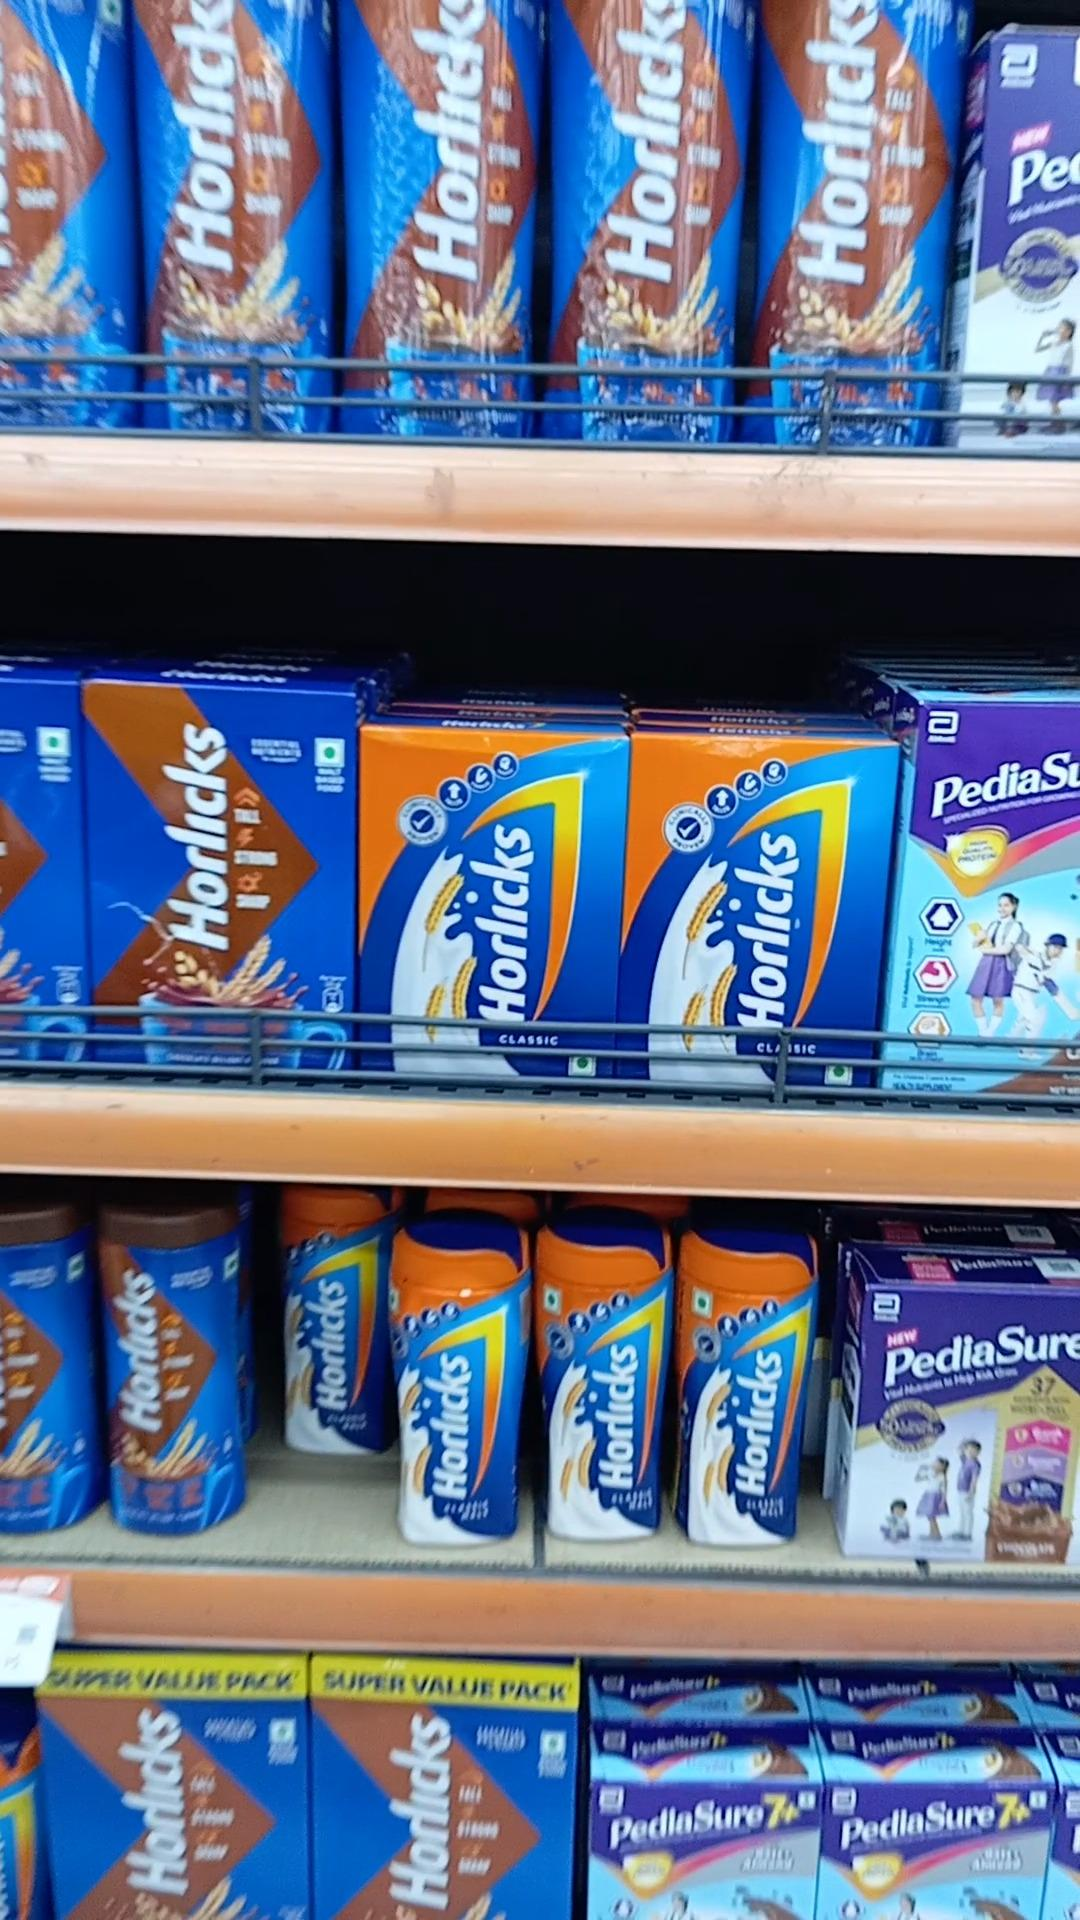HORLICK_CHOCOLATE_500_G_JAR: (100, 1216, 249, 1540)
HORLICK_CHOCOLATE_500_G_PACK: (86, 676, 348, 1084)
HORLICK_CLASSIC_MALT_500_G_JAR: (676, 1230, 810, 1544), (389, 1234, 521, 1549), (541, 1228, 658, 1536), (282, 1192, 377, 1458)
HORLICK_CLASSIC_MALT_500_G_PACK: (359, 735, 617, 1092), (626, 736, 877, 1091)
PEDIASURE_CHOCOLATE_500_G_PACK: (857, 1283, 1080, 1567)
